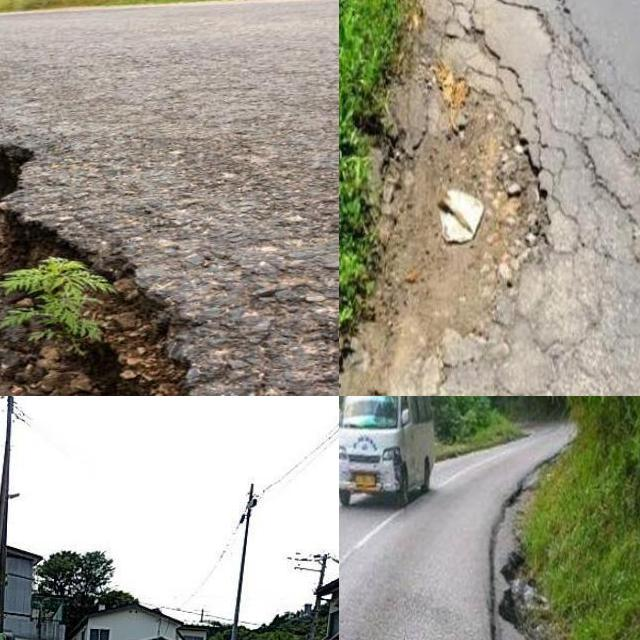Pinggir: (339, 0, 640, 396), (0, 114, 267, 396), (476, 471, 557, 640)
